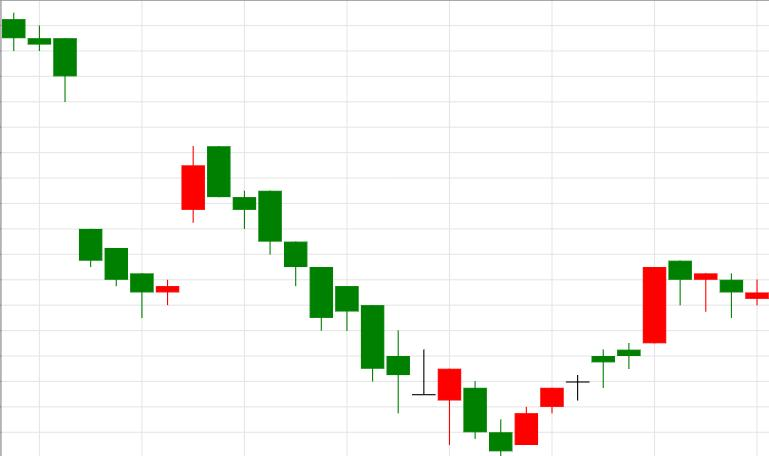hammer_rise: (208, 146, 461, 445)
